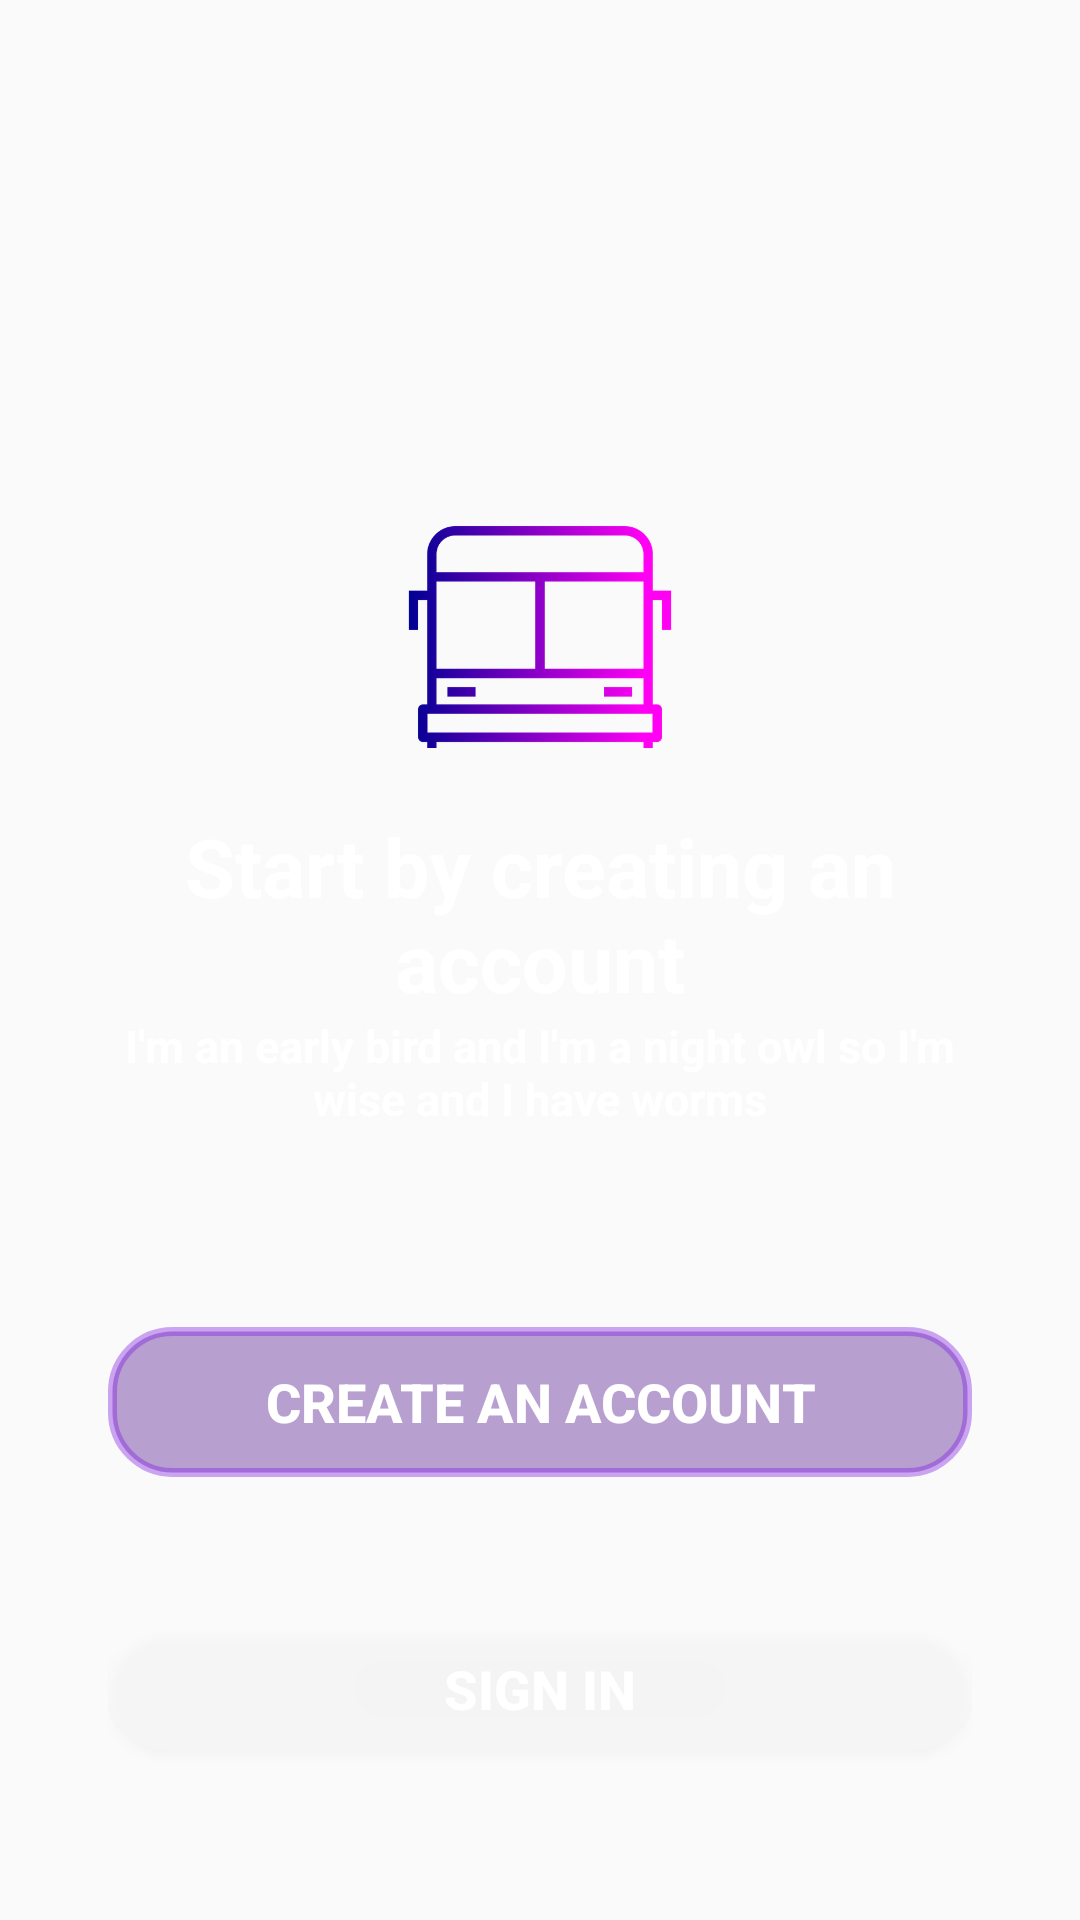

Screen size 1080×1920. Icon name, then its box in pixels as (x1, y1, x2, y2):
bus: (408, 526, 672, 748)
